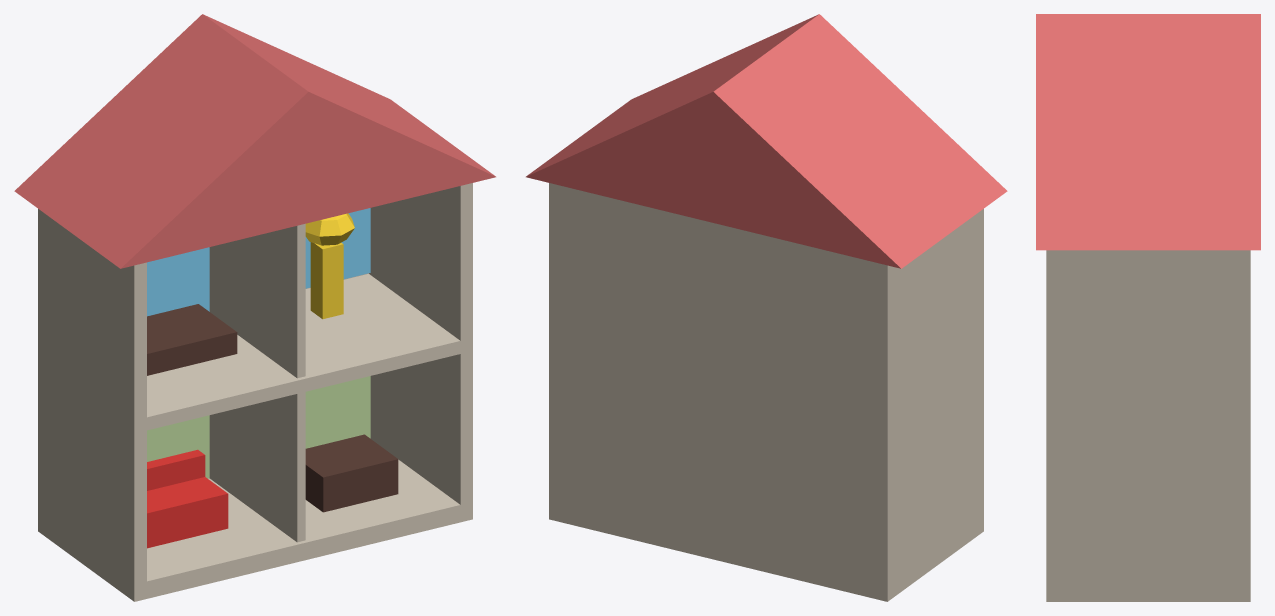
Rendered from dockskap.glb.
3 views of the same model, side by side, from view 1: azimuth 30°, elevation 25°; view 2: azimuth 150°, elevation 25°; view 3: azimuth 270°, elevation 25° (orthographic). The views are drawn at different scales.
Parts seen in each view (by area): view 1: dockskap; view 2: dockskap; view 3: dockskap.
Boxes of the visible parts, box(x1,y1,x2,y2) form: dockskap: box(14, 14, 495, 601); dockskap: box(526, 14, 1007, 601); dockskap: box(1036, 14, 1260, 601).
Size of the model in its own units: 0.9 by 1.08 by 0.44.
